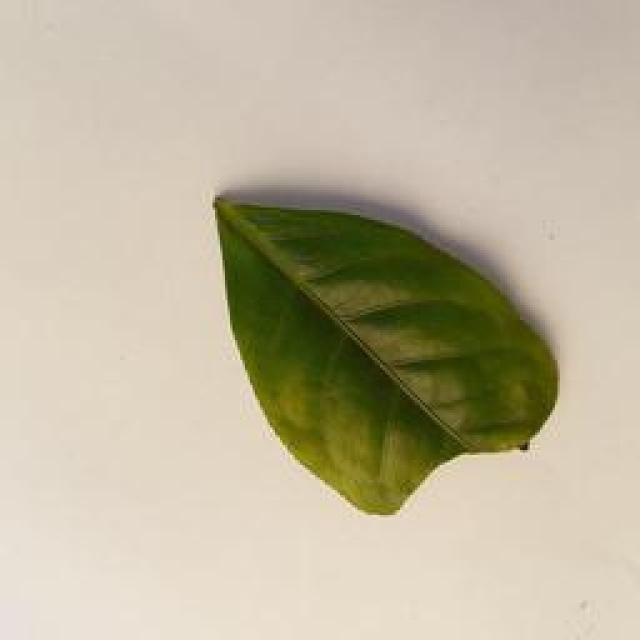Healthy: (208, 189, 558, 518)
